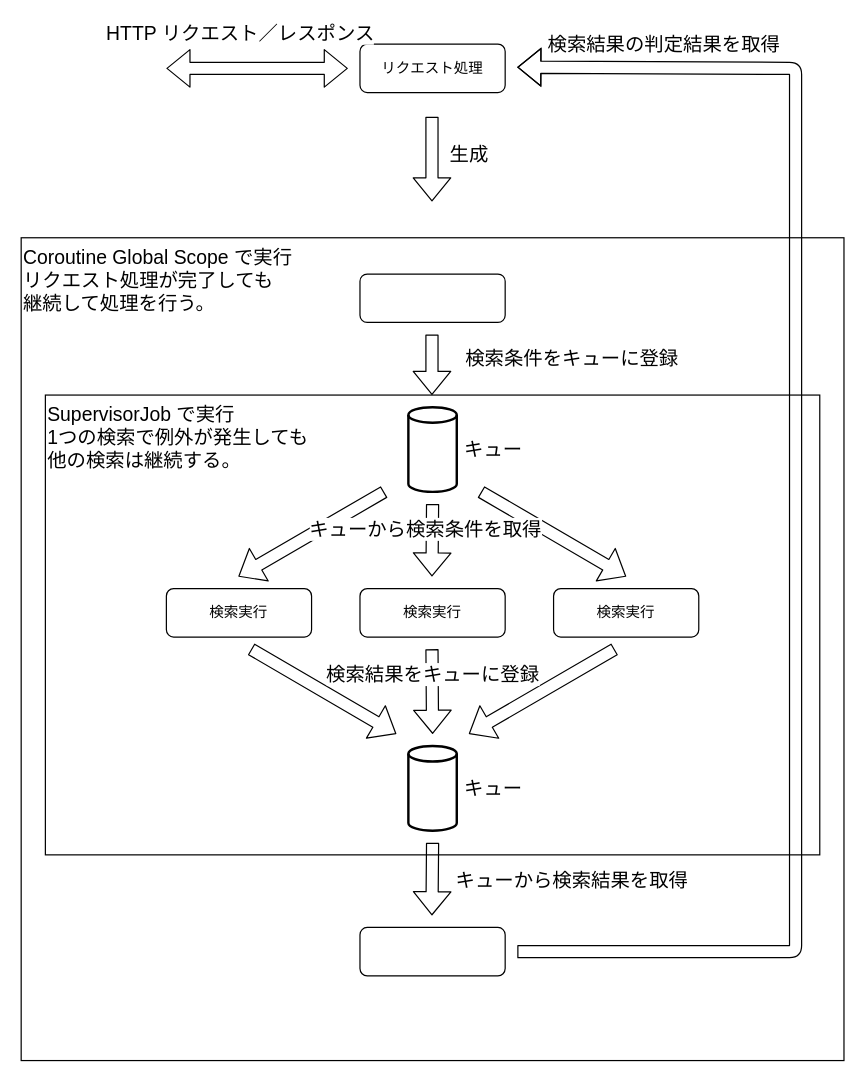
Some shapes in this 865 by 1082 pixel diagram are drawn without their labels. Here are the shapes that lost their labels. From the top down, the centre of each, then its label:
At point (432, 297): "検索条件生成".
At point (432, 951): "検索結果判定".
